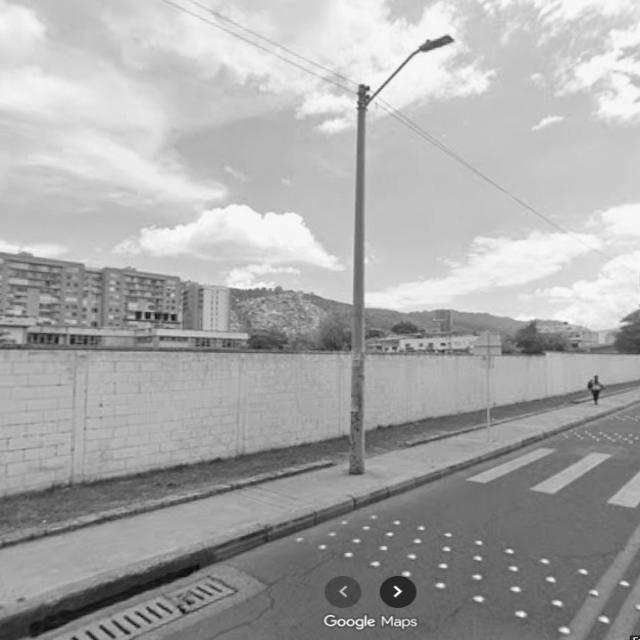Fachada: (0, 252, 248, 348)
Poste: (349, 34, 454, 474)
